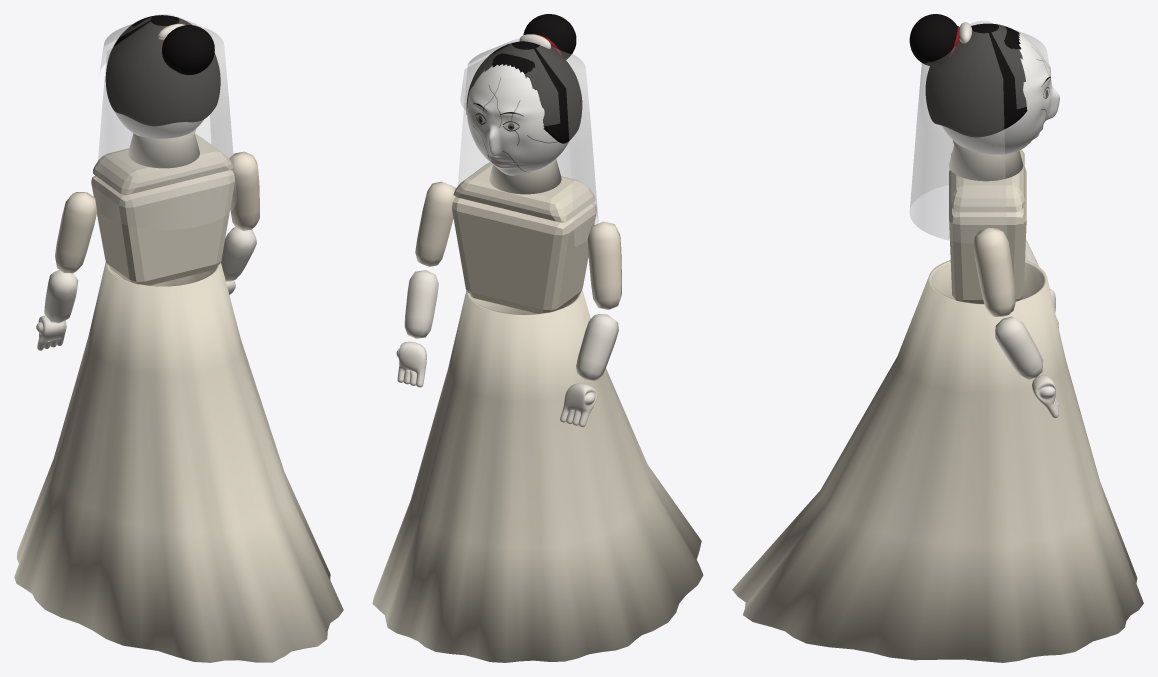
The model's file is mascara_dama.glb.
3 views of the same model, side by side, from view 1: azimuth 30°, elevation 25°; view 2: azimuth 150°, elevation 25°; view 3: azimuth 270°, elevation 25° (orthographic). The views are drawn at different scales.
Parts seen in each view (by area): view 1: saia, veu, corpete, cabelo, ombros, braco, coque, gola, braco.001, luva_longa, luva_longa.001, mascara (+2 smaller); view 2: saia, corpete, mascara, veu, veu_frente, cabelo, ombros, braco, braco.001, luva_longa, luva_longa.001, gola (+3 smaller); view 3: saia, veu, cabelo, corpete, mascara, braco.001, ombros, veu_frente, coque, gola, luva_longa.001, luva.001.
Boxes of the visible parts, left/top/right/bottom form: saia: left=14, top=262, right=343, bottom=662; veu: left=95, top=17, right=236, bottom=229; corpete: left=91, top=169, right=234, bottom=285; cabelo: left=105, top=15, right=220, bottom=126; ombros: left=93, top=134, right=233, bottom=194; braco: left=55, top=192, right=97, bottom=273; coque: left=162, top=25, right=214, bottom=75; gola: left=128, top=129, right=199, bottom=168; braco.001: left=229, top=151, right=259, bottom=230; luva_longa: left=44, top=270, right=78, bottom=323; luva_longa.001: left=221, top=227, right=256, bottom=281; mascara: left=108, top=20, right=203, bottom=138; saia: left=372, top=290, right=703, bottom=662; corpete: left=452, top=197, right=596, bottom=313; mascara: left=467, top=64, right=569, bottom=175; veu: left=458, top=37, right=598, bottom=246; veu_frente: left=460, top=44, right=559, bottom=126; cabelo: left=466, top=41, right=582, bottom=143; ombros: left=453, top=162, right=595, bottom=222; braco: left=587, top=221, right=621, bottom=309; braco.001: left=415, top=181, right=455, bottom=266; luva_longa: left=576, top=314, right=618, bottom=380; luva_longa.001: left=404, top=270, right=438, bottom=338; gola: left=489, top=158, right=561, bottom=194; saia: left=732, top=260, right=1143, bottom=662; veu: left=910, top=21, right=1006, bottom=243; cabelo: left=925, top=23, right=1027, bottom=137; corpete: left=949, top=167, right=1026, bottom=303; mascara: left=942, top=33, right=1059, bottom=154; braco.001: left=973, top=228, right=1015, bottom=316; ombros: left=951, top=149, right=1024, bottom=212; veu_frente: left=992, top=23, right=1051, bottom=108; coque: left=909, top=14, right=959, bottom=66; gola: left=948, top=140, right=1023, bottom=181; luva_longa.001: left=995, top=316, right=1043, bottom=379; luva.001: left=1032, top=375, right=1058, bottom=418.
Size of the model in its own units: 0.837 by 1.72 by 1.1.
10 materials, 1 textured.
